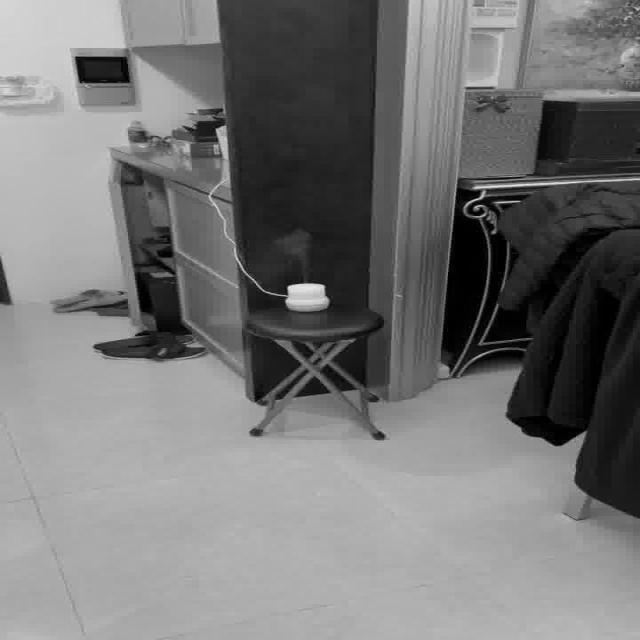fire: (260, 227, 322, 276)
